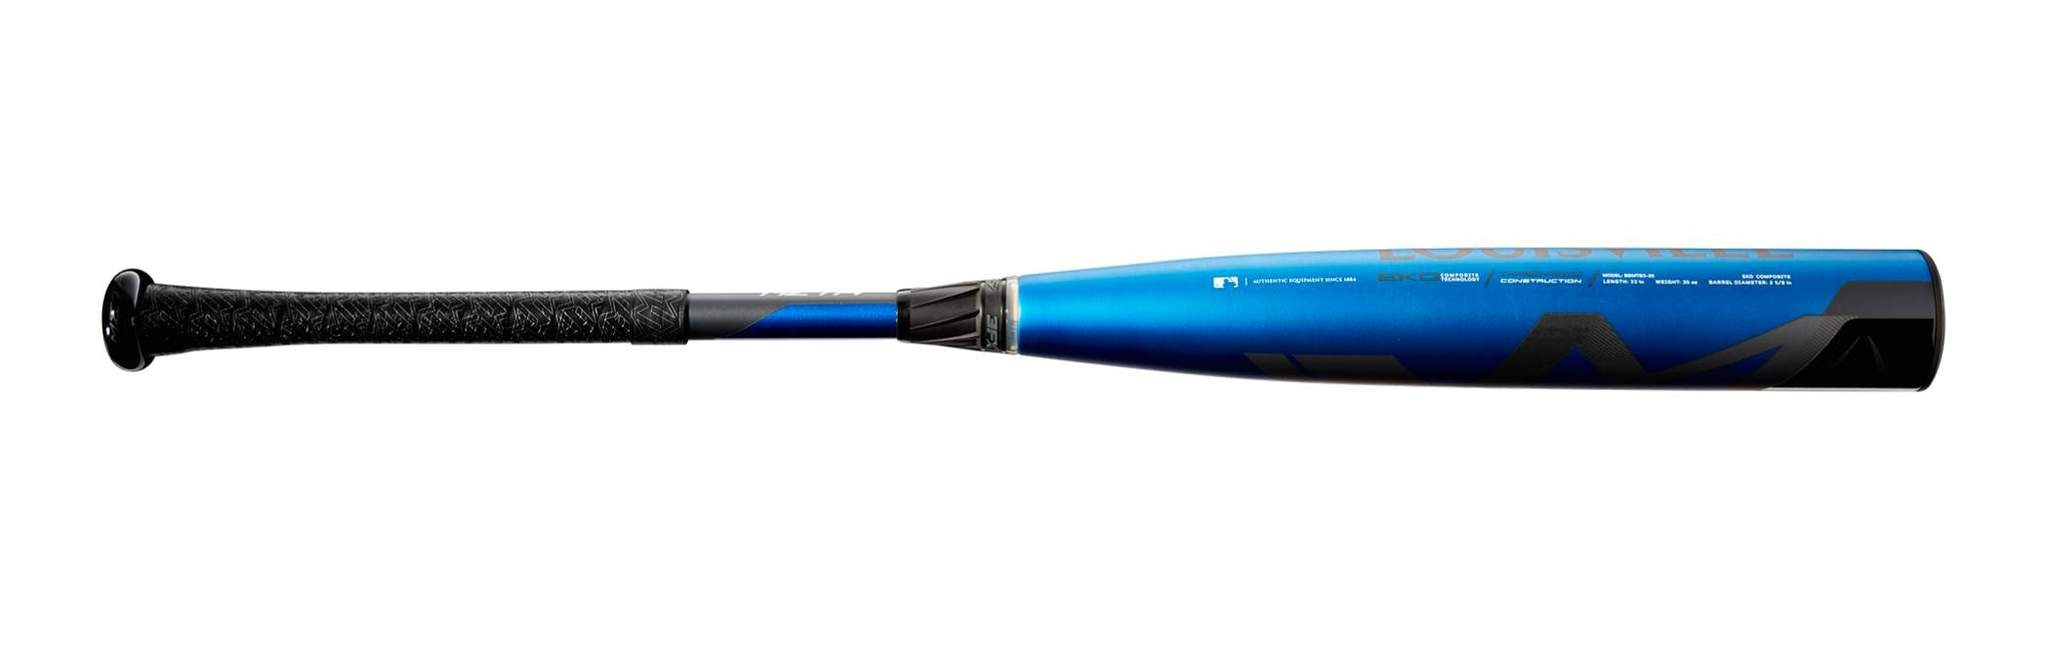bita: (107, 235, 1931, 394)
